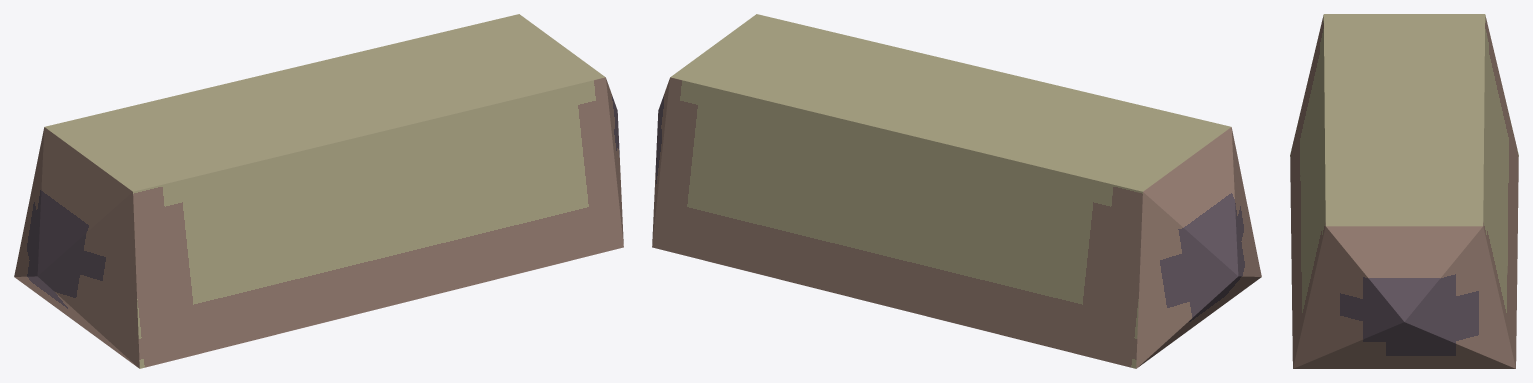
The model's file is character_arm.glb.
3 renders of one model, left to right at view 1: azimuth 30°, elevation 25°; view 2: azimuth 150°, elevation 25°; view 3: azimuth 270°, elevation 25°, orthographic. The views are drawn at different scales.
Parts seen in each view (by area): view 1: Cube.052; view 2: Cube.052; view 3: Cube.052.
Boxes of the visible parts, x1=… form: Cube.052: x1=14, y1=14, x2=623, y2=368; Cube.052: x1=652, y1=14, x2=1261, y2=368; Cube.052: x1=1290, y1=14, x2=1518, y2=368.
Bounding box in the file's own units: 2.62 × 0.6933 × 0.9821.
Materials: 1 (1 with a texture image).
